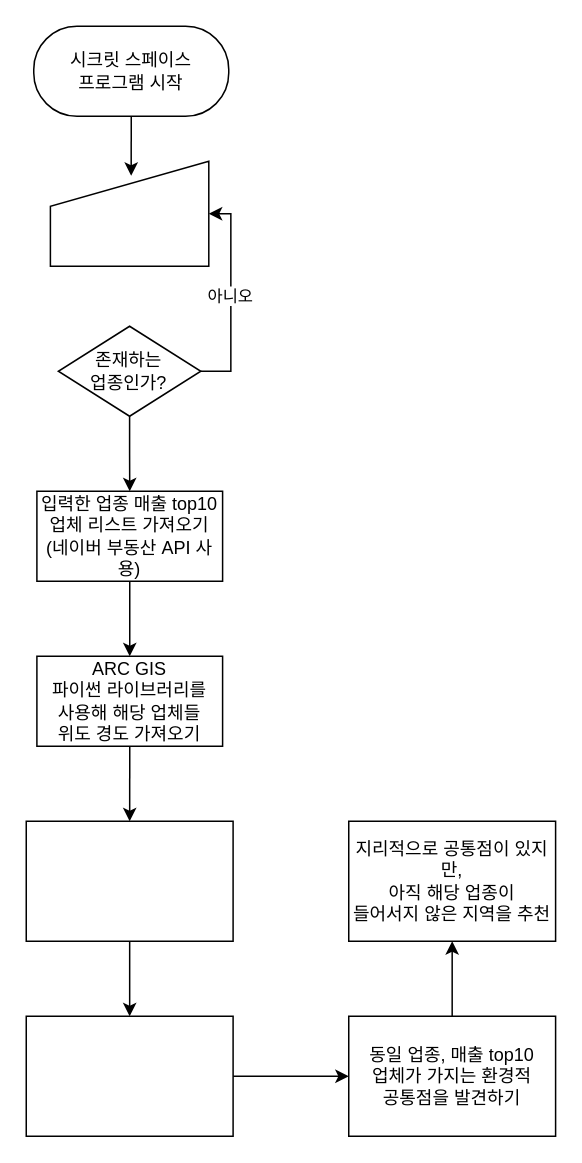
Image size: 582x1163. Some labels were removed from this diagram. Each missing label, with the centre of its shape:
"가져온 위도 경도를 교통 API에 대입해서 해당 업체 사각형범위 만큼의 교통 환경 정보 가져오기" belongs at point (129, 1075).
"가져온 위도 경도를 상권 API에 대입해서 해당 업체 사각형범위 만큼의 다른 업체 정보 가져오기" belongs at point (129, 880).
"창업 희망 업종, 지역, 자금 입력" belongs at point (129, 213).
